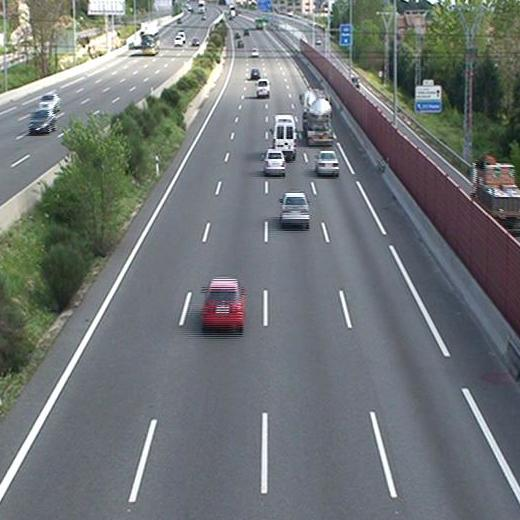car: (202, 278, 245, 330), (280, 192, 308, 229), (316, 150, 339, 176), (263, 148, 285, 175), (250, 68, 259, 79)
tank-truck: (298, 88, 335, 147)
van: (274, 115, 298, 156), (257, 80, 270, 99)
